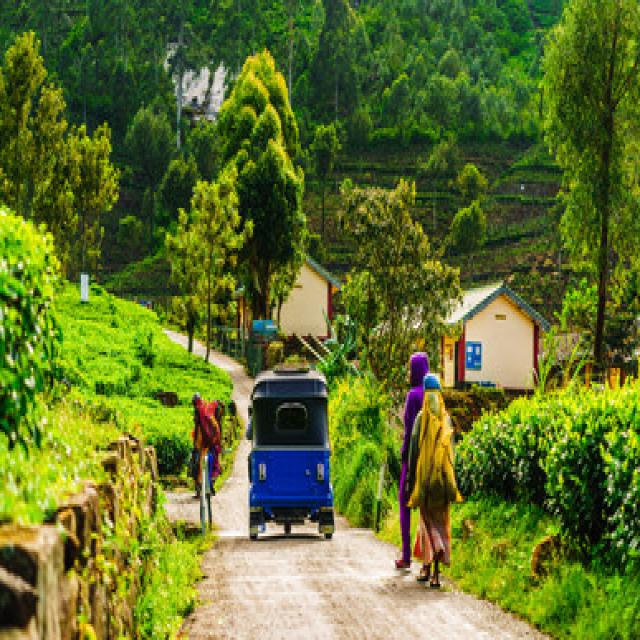bicycle: (200, 476, 210, 536)
person: (408, 373, 460, 587), (395, 352, 427, 571), (190, 392, 223, 531)
three wheeler: (250, 368, 332, 539)
